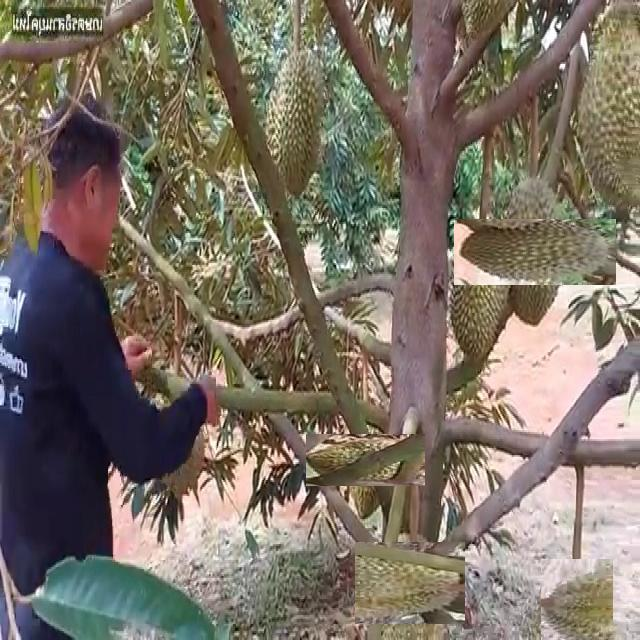durian: (574, 6, 639, 216), (477, 194, 592, 309), (266, 43, 330, 205), (361, 535, 458, 631), (451, 224, 520, 356), (322, 417, 409, 502), (538, 561, 618, 640)
